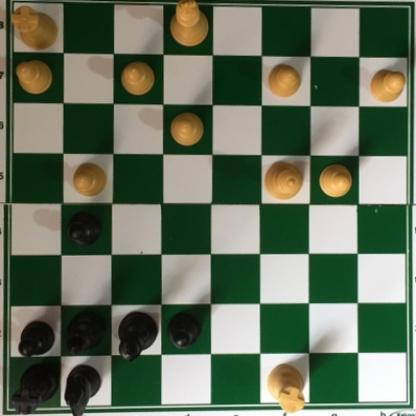black-bishop: (66, 311, 111, 359)
black-king: (117, 309, 160, 363)
black-knight: (62, 361, 102, 415)
black-pawn: (18, 320, 56, 359), (167, 312, 203, 351), (67, 212, 102, 247)
black-rook: (9, 362, 63, 415)
white-king: (169, 0, 211, 51)
white-pawn: (368, 69, 407, 108), (118, 58, 157, 97), (15, 59, 56, 94), (169, 112, 206, 148), (71, 162, 108, 198), (317, 163, 354, 198), (266, 64, 303, 99)
white-queen: (262, 159, 304, 204)
white-rook: (9, 5, 62, 55), (268, 362, 311, 415)
